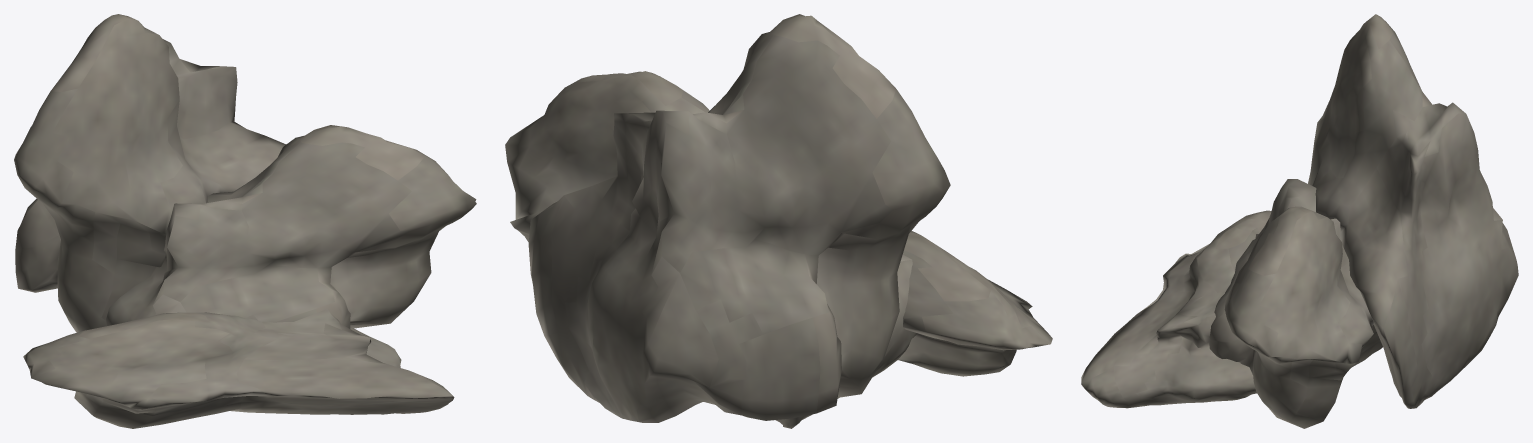
The model's file is corealm_scree_slide.glb.
3 views of the same model, side by side, from view 1: azimuth 30°, elevation 25°; view 2: azimuth 150°, elevation 25°; view 3: azimuth 270°, elevation 25° (orthographic). The views are drawn at different scales.
Parts seen in each view (by area): view 1: corealm_scree_slide; view 2: corealm_scree_slide; view 3: corealm_scree_slide.
Boxes of the visible parts, x1,y1,x2,y2 form: corealm_scree_slide: (14, 14, 476, 428); corealm_scree_slide: (505, 14, 1052, 428); corealm_scree_slide: (1081, 14, 1518, 428).
Bounding box in the file's own units: 6 × 4.38 × 5.44.
Materials: 1 (1 with a texture image).
